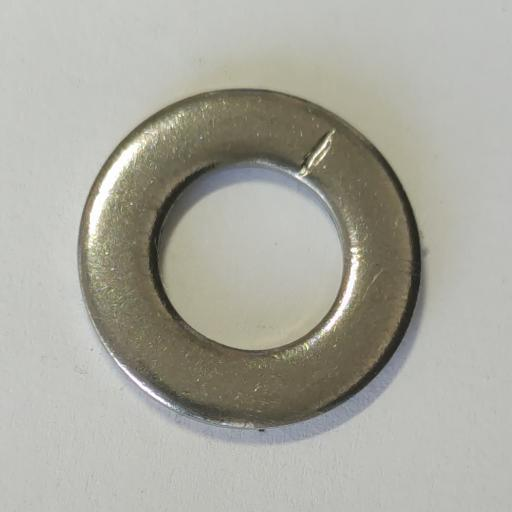scratch: (299, 129, 336, 179)
